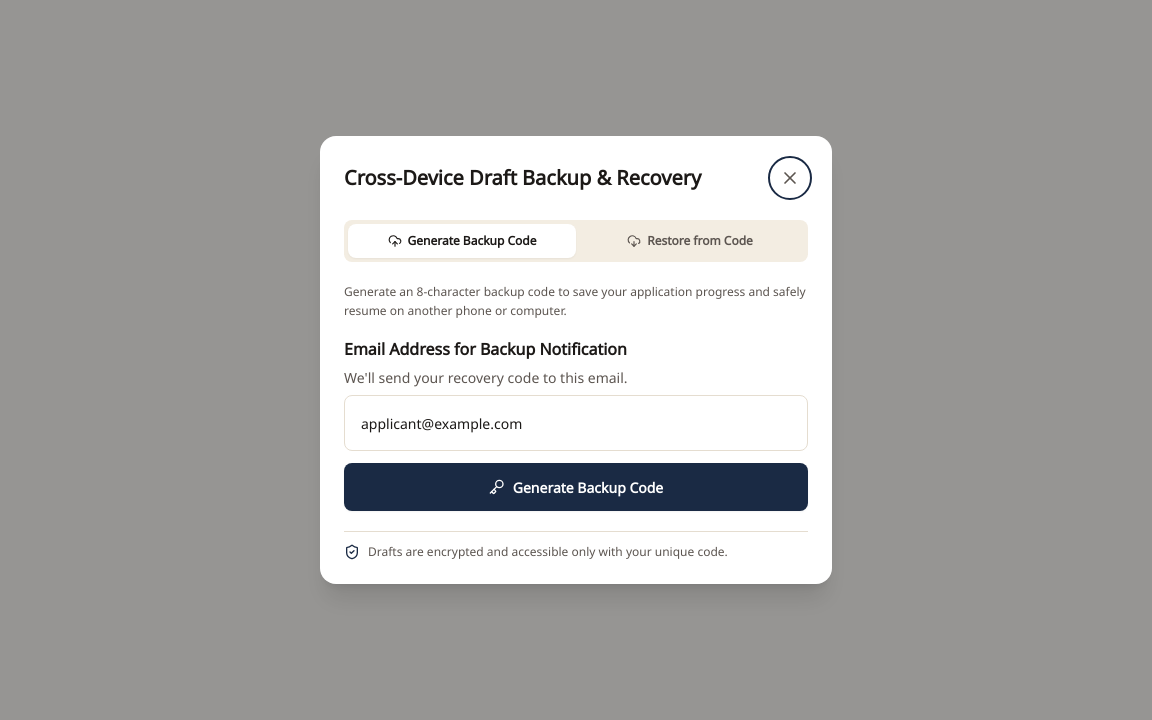
Scenario: DraftBackupModal Component › renders modal in generate mode by default and creates a code
The width and height of the screenshot is (1152, 720).
Expected: the heading "Cross-Device Draft Backup & Recovery" is shown, [344,164,701,192]
Expected: the button with test id "mode-tab-generate" is shown, [348,224,576,258]
Click the button with test id "create-backup-btn": (576, 487) [344,463,808,511]
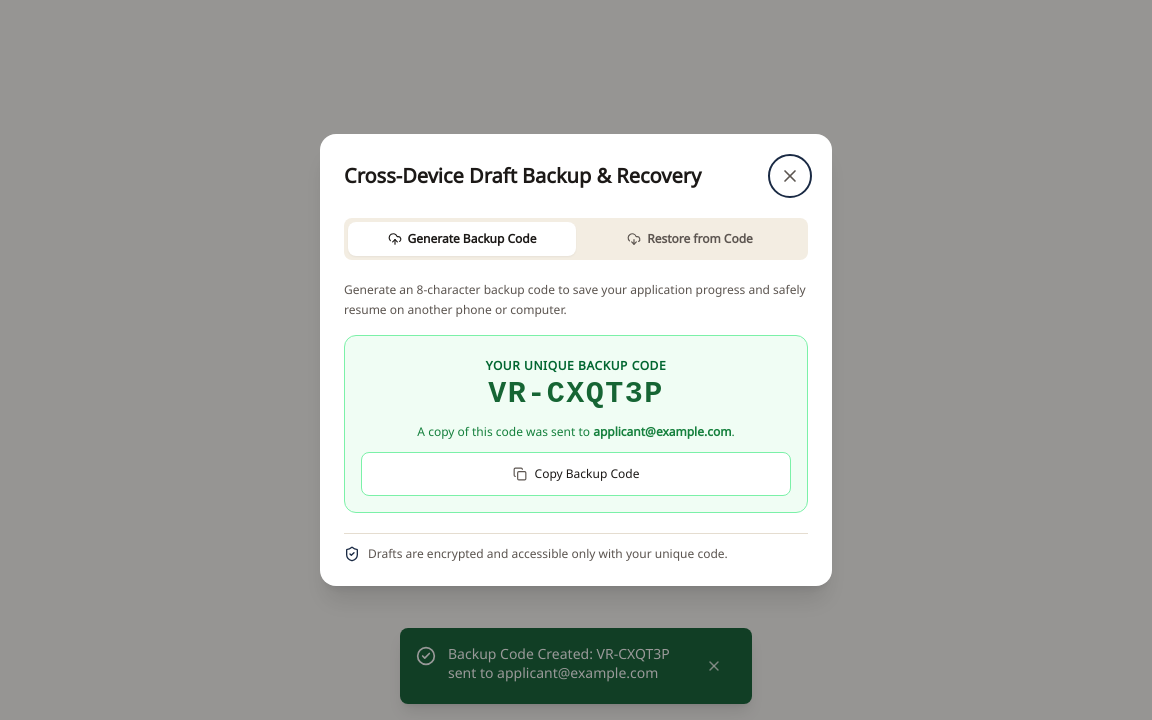
Expected: the text "Your Unique Backup Code" is shown, [486,357,666,374]
Expected: the button with test id "copy-backup-code-btn" is shown, [361,452,791,496]
